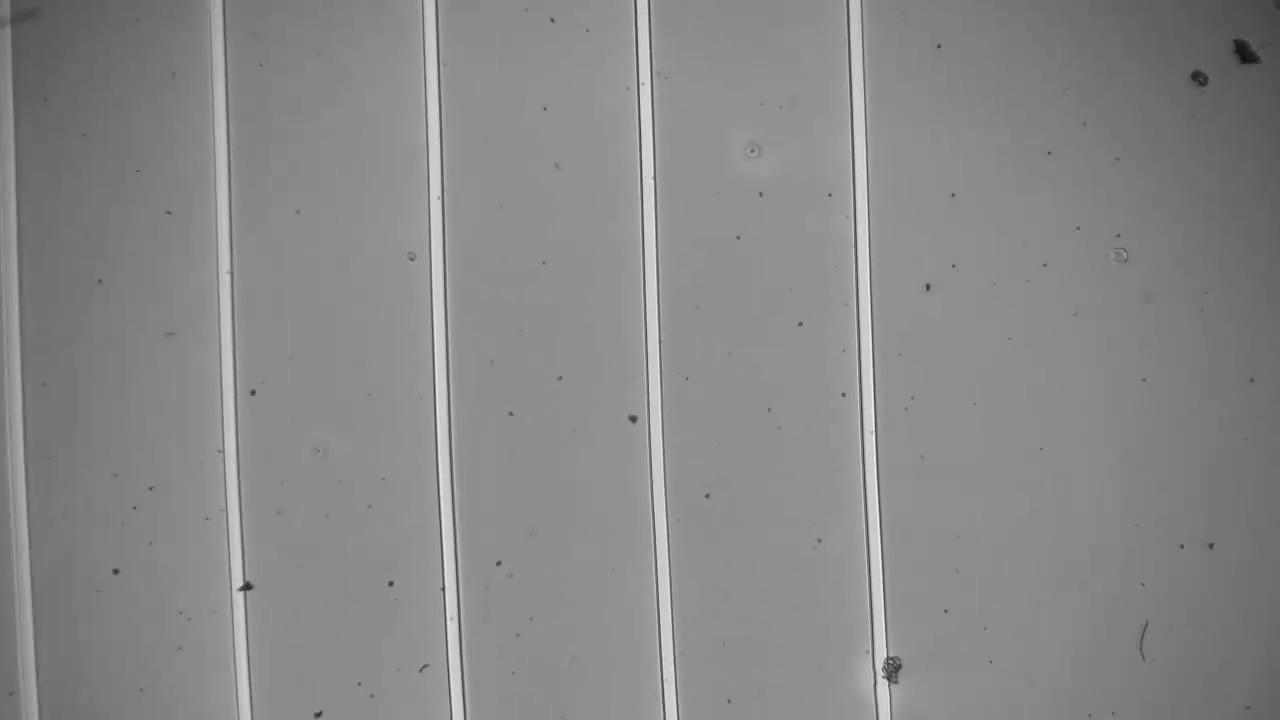stains_enbedded: (862, 646, 907, 690)
